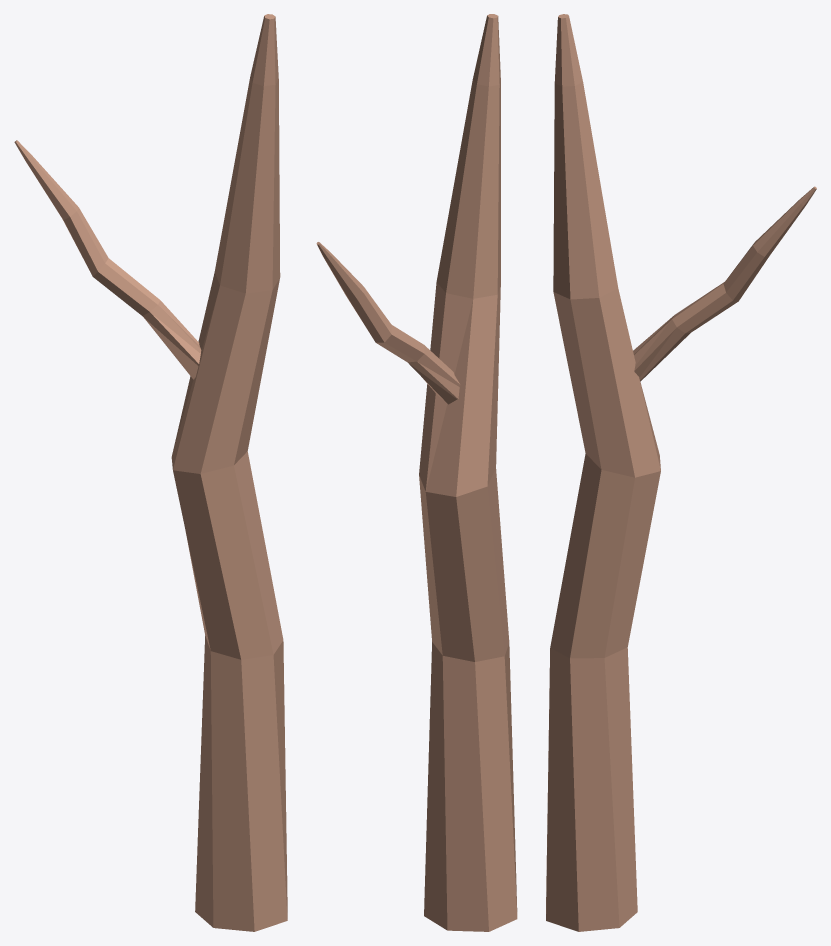
File: DeadTree.glb
3 renders of one model, left to right at view 1: azimuth 90°, elevation 25°; view 2: azimuth 150°, elevation 25°; view 3: azimuth 270°, elevation 25°, orthographic.
Parts seen in each view (by area): view 1: DeadTree; view 2: DeadTree; view 3: DeadTree.
Part boxes in pixels (bbox=[...]): DeadTree: bbox=[14, 14, 287, 931]; DeadTree: bbox=[316, 14, 517, 931]; DeadTree: bbox=[546, 14, 816, 931].
Bounding box in the file's own units: 0.4593 × 4.72 × 1.3.
Materials: 1 (1 with a texture image).
